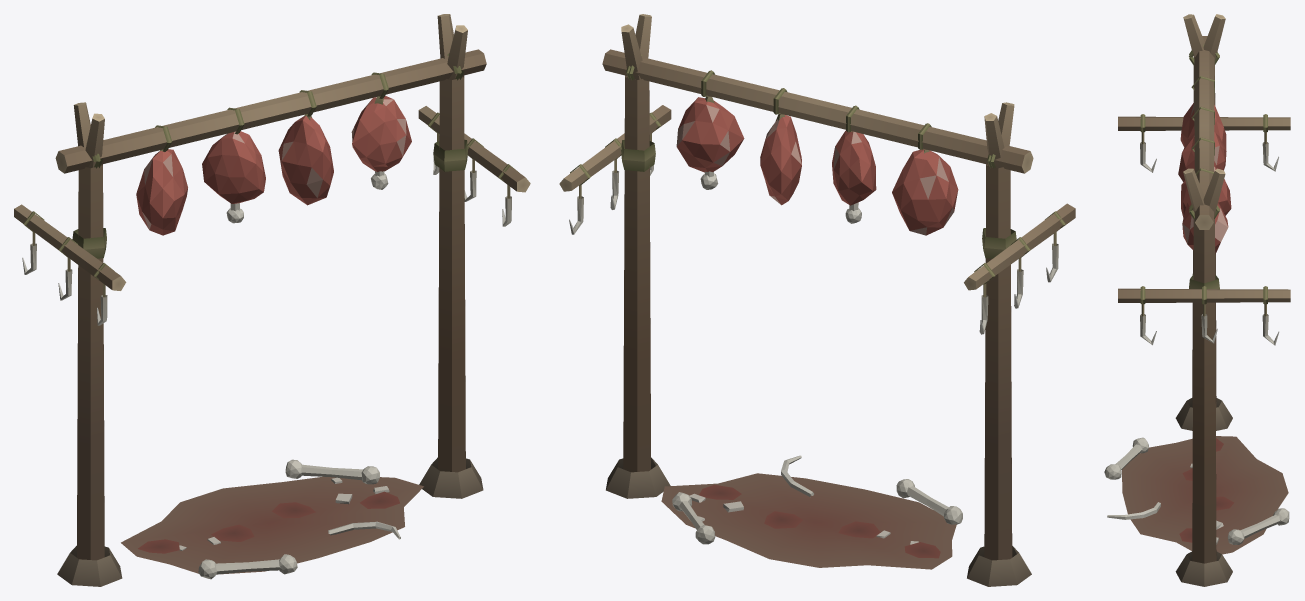
Rendered from bait_rack_a.glb.
3 views of the same model, side by side, from view 1: azimuth 30°, elevation 25°; view 2: azimuth 150°, elevation 25°; view 3: azimuth 270°, elevation 25° (orthographic). The views are drawn at different scales.
Visible parts, largest first — view 1: Base, Meat1, Store2, Meat2, Meat3, Meat0, Store3; view 2: Base, Meat0, Meat3, Store2, Store3, Meat1, Meat2; view 3: Base, Store3, Store2, Meat1, Meat3, Meat0, Meat2.
Boxes of the visible parts, box(x1,y1,x2,y2) form: Base: box(55, 14, 486, 586); Meat1: box(202, 131, 265, 223); Store2: box(14, 204, 126, 325); Meat2: box(278, 114, 333, 205); Meat3: box(351, 96, 411, 189); Meat0: box(136, 149, 187, 235); Store3: box(418, 106, 530, 226); Base: box(602, 14, 1033, 586); Meat0: box(892, 149, 958, 235); Meat3: box(676, 96, 744, 189); Store2: box(964, 203, 1075, 334); Store3: box(559, 105, 671, 234); Meat1: box(832, 130, 876, 223); Meat2: box(760, 114, 801, 205); Base: box(1104, 14, 1289, 586); Store3: box(1118, 274, 1290, 345); Store2: box(1118, 114, 1290, 172); Meat1: box(1178, 132, 1226, 181); Meat3: box(1182, 200, 1228, 254); Meat0: box(1180, 102, 1226, 149); Meat2: box(1181, 166, 1231, 217).
Bounding box in the file's own units: 1.88 × 1.97 × 0.8207.
